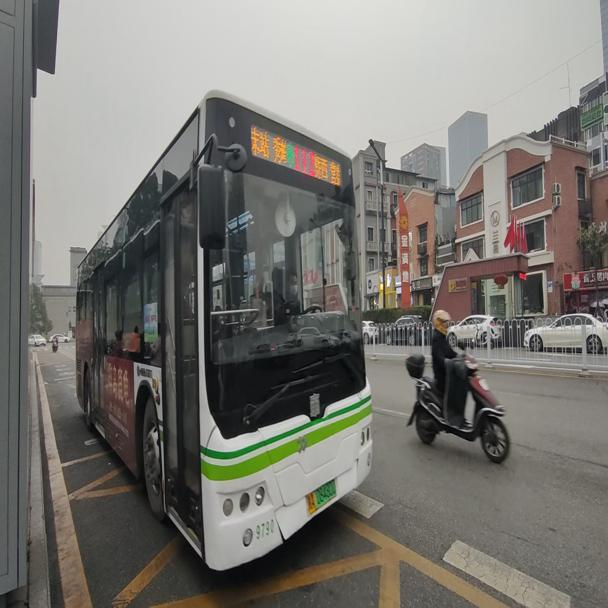bus: (75, 85, 370, 571)
screen: (291, 139, 315, 176)
